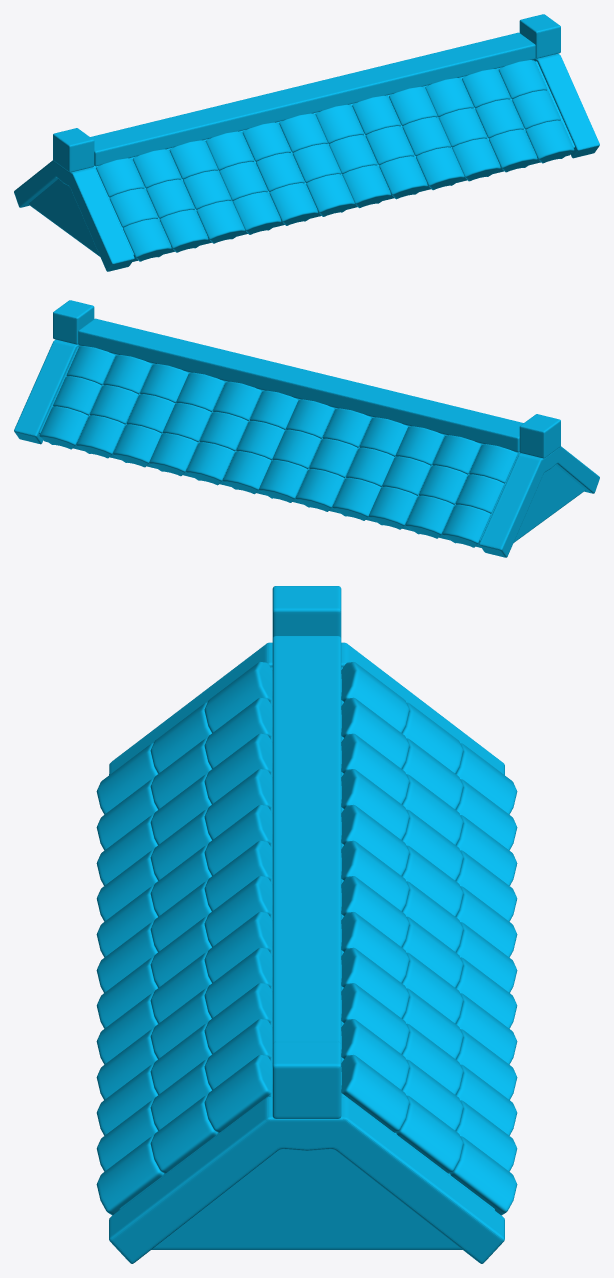
Rendered from SM_Brick_Roof_05.fbx.
The picture shows the model from 3 angles, top to bottom: view 1: azimuth 30°, elevation 25°; view 2: azimuth 150°, elevation 25°; view 3: azimuth 270°, elevation 25°; orthographic projection. The views are drawn at different scales.
Parts seen in each view (by area): view 1: SM_Brick_Roof_05; view 2: SM_Brick_Roof_05; view 3: SM_Brick_Roof_05.
Part boxes in pixels (left/top/right/bottom): SM_Brick_Roof_05: left=14, top=14, right=599, bottom=271; SM_Brick_Roof_05: left=14, top=300, right=599, bottom=557; SM_Brick_Roof_05: left=96, top=586, right=517, bottom=1263.
Bounding box in the file's own units: 7.56 × 1.48 × 2.8.
